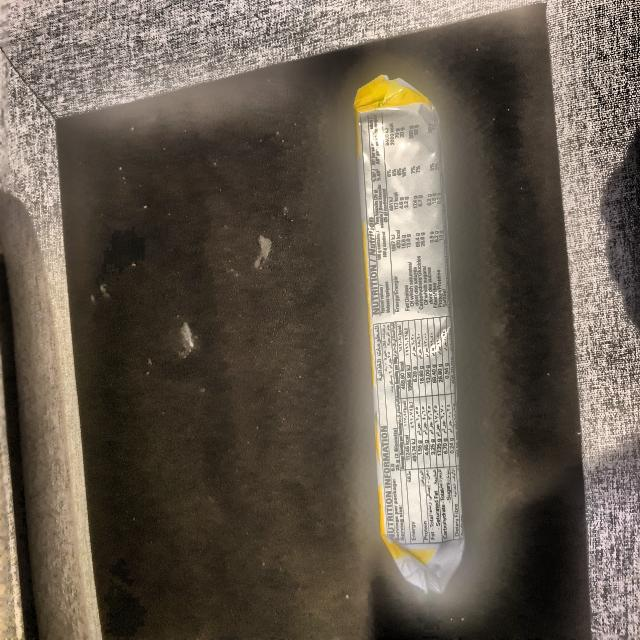lemon puff: (352, 80, 468, 592)
